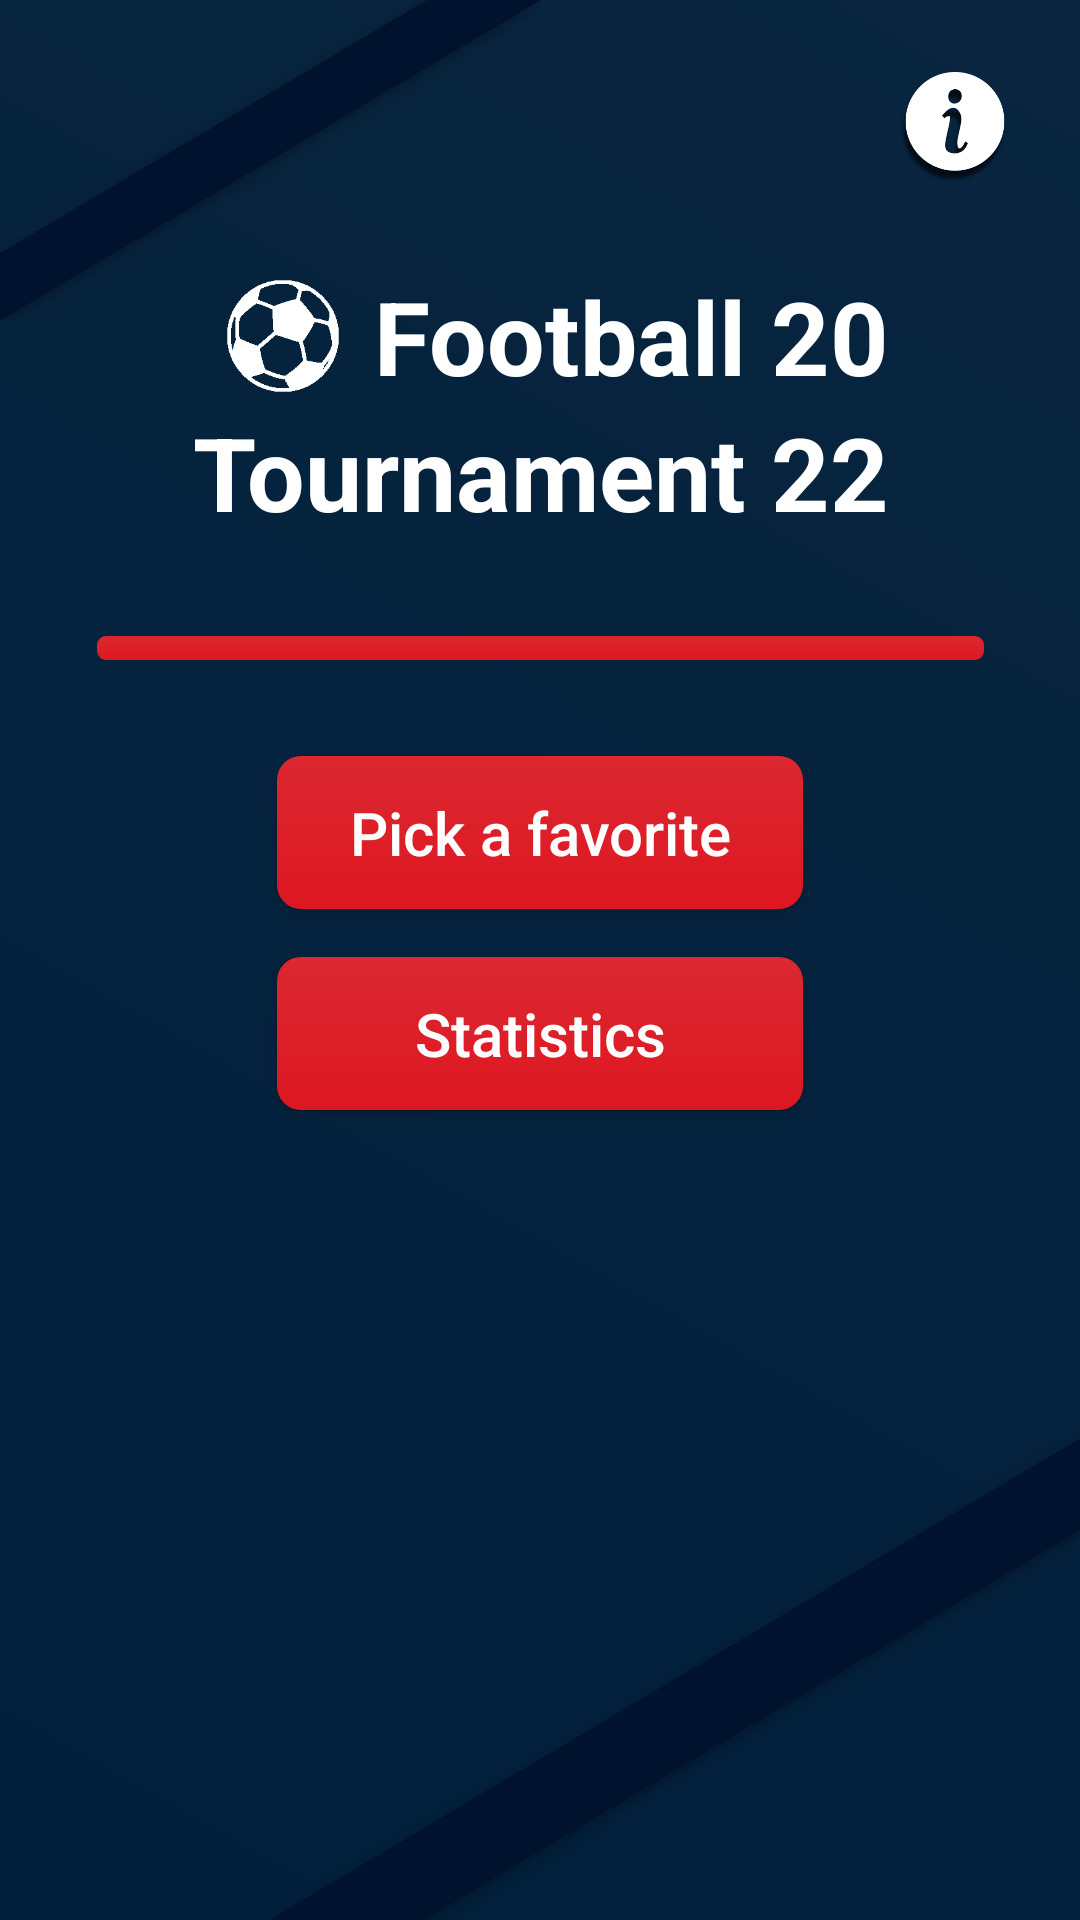

Icons on this 1080w x 1920h Android screen, each with the point to tap as point (x, y):
info: point (954, 125)
